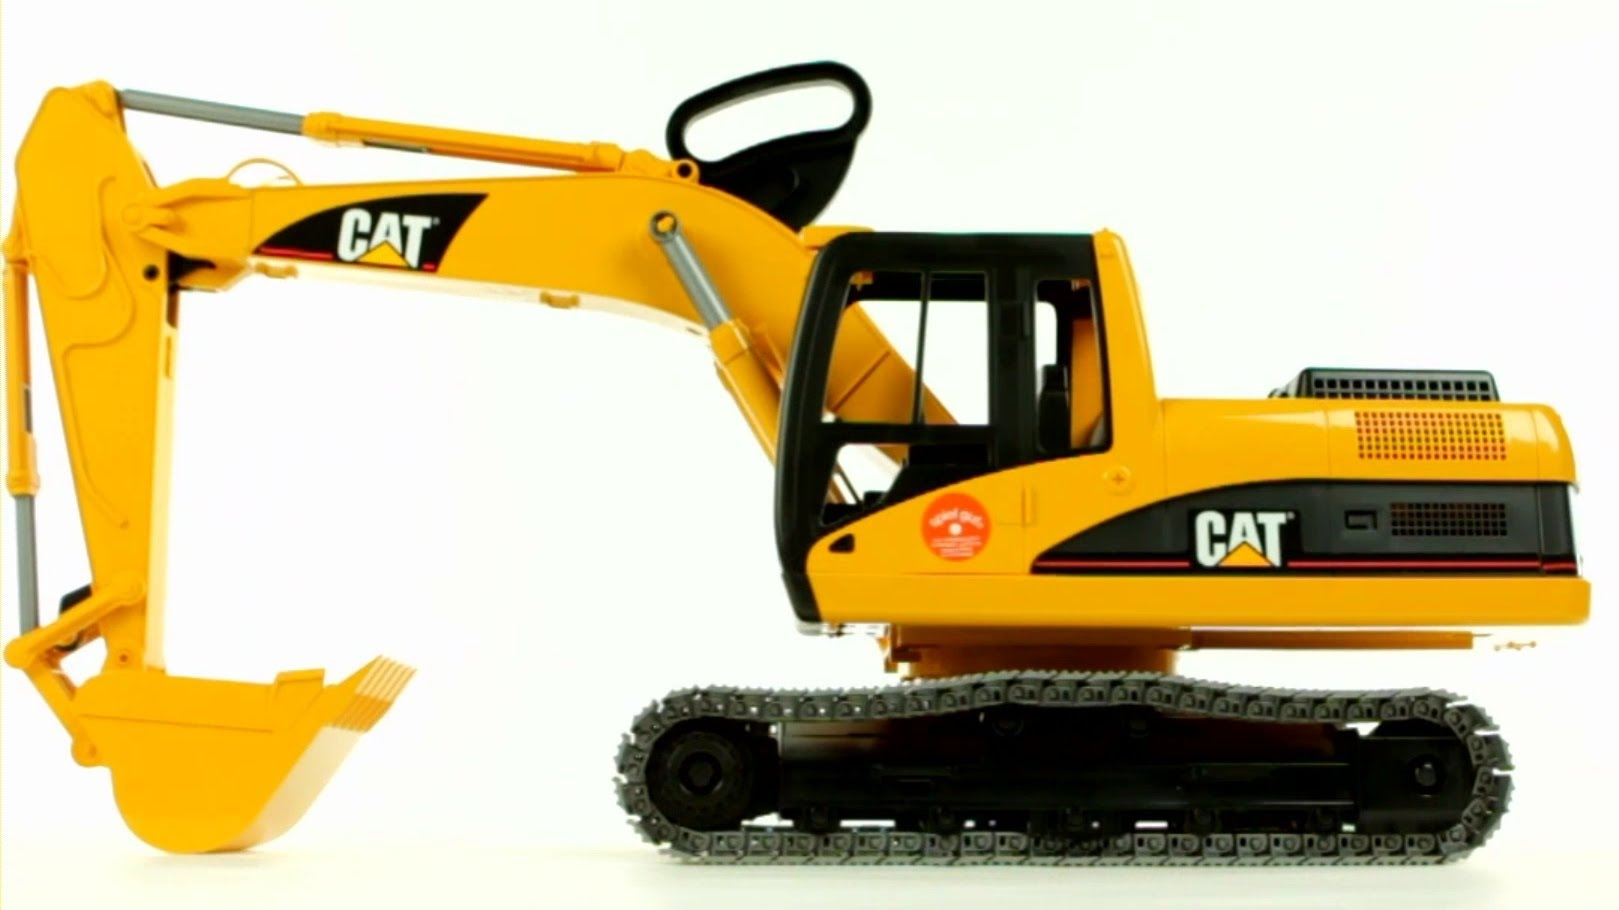backhoe: (4, 77, 1592, 876)
